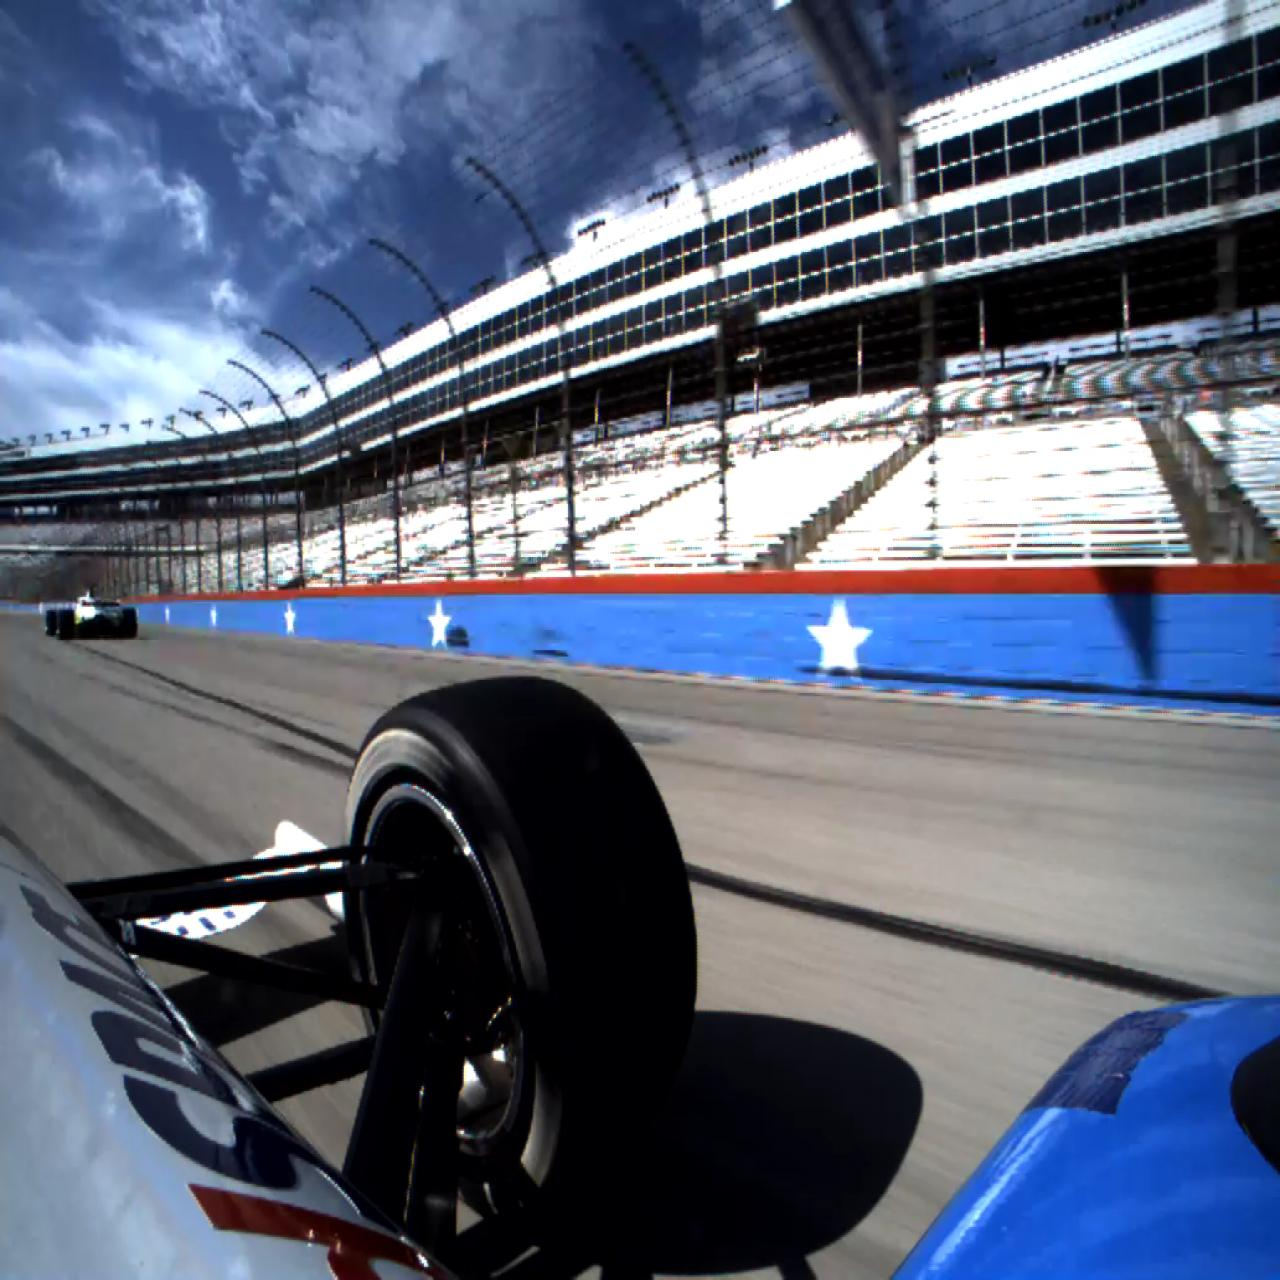AV: (45, 583, 138, 640)
Wheel: (343, 678, 700, 1237), (57, 608, 75, 641), (122, 607, 138, 640), (46, 608, 59, 636)
